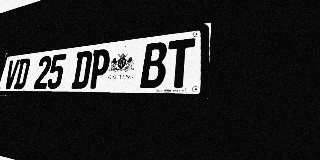2: (33, 55, 53, 89)
5: (46, 54, 67, 89)
B: (140, 41, 168, 88)
D: (71, 50, 93, 89), (13, 58, 31, 89)
P: (88, 48, 111, 89)
T: (165, 38, 195, 88)
V: (3, 59, 20, 89)
